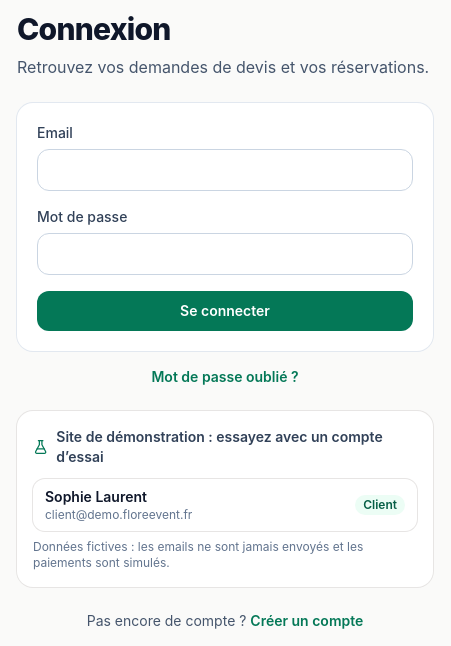
Test: Vitrine et démonstration (US-20 à US-23) › sur la démonstration, la connexion client propose seulement le compte client
Step 1. Click the button "Sophie Laurent client@demo.floreevent.fr Client" → click(96, 496), box [33, 479, 417, 531]
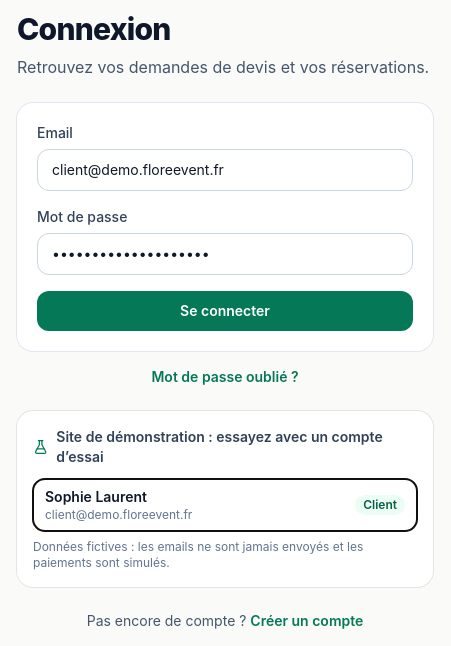
Expected: the field labelled "Email" holds "client@demo.floreevent.fr", [37, 149, 413, 191]
Expected: the password field labelled "Mot de passe" holds "demo-floreevent-2026", [37, 233, 413, 275]
